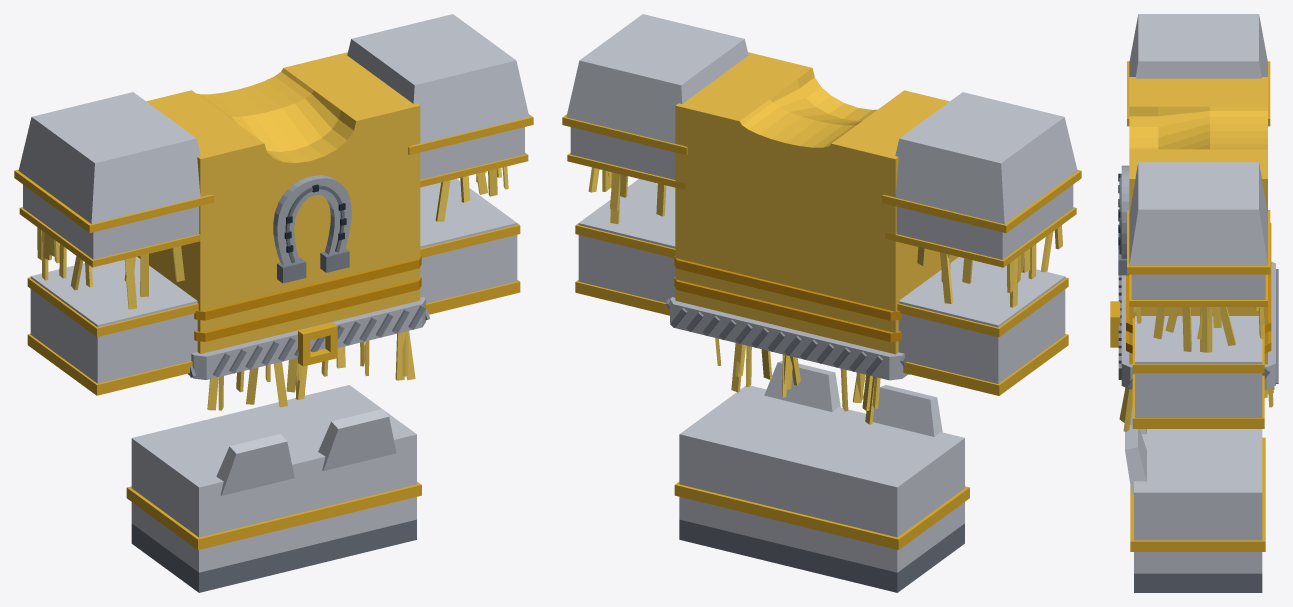
Rendered from w1_armor_harvest.fbx.
3 views of the same model, side by side, from view 1: azimuth 30°, elevation 25°; view 2: azimuth 150°, elevation 25°; view 3: azimuth 270°, elevation 25° (orthographic). The views are drawn at different scales.
Visible parts, largest first — view 1: Harvest.Chest, Harvest.PlateR, Harvest.PlateL, Harvest.GreaveR, Harvest.GreaveL, Harvest.TrimR, Harvest.Bands, Harvest.TrimL, Harvest.Belt, Harvest.SoleR, Harvest.StrawTorso, Harvest.Emblem (+8 smaller); view 2: Harvest.Chest, Harvest.PlateR, Harvest.PlateL, Harvest.GreaveR, Harvest.GreaveL, Harvest.TrimR, Harvest.Belt, Harvest.Bands, Harvest.TrimL, Harvest.SoleR, Harvest.StrawTorso, Harvest.GreaveTrimR (+5 smaller); view 3: Harvest.PlateL, Harvest.GreaveL, Harvest.Chest, Harvest.PlateR, Harvest.TrimL, Harvest.SoleL, Harvest.StrawL, Harvest.GreaveR, Harvest.GreaveTrimL, Harvest.Belt, Harvest.Bands, Harvest.Braid (+4 smaller).
Part boxes in pixels (x1=…): Harvest.Chest: x1=137, y1=52, x2=420, y2=353; Harvest.PlateR: x1=18, y1=92, x2=209, y2=383; Harvest.PlateL: x1=347, y1=14, x2=529, y2=303; Harvest.GreaveR: x1=131, y1=410, x2=315, y2=572; Harvest.GreaveL: x1=248, y1=385, x2=416, y2=547; Harvest.TrimR: x1=14, y1=169, x2=213, y2=395; Harvest.Bands: x1=194, y1=256, x2=421, y2=341; Harvest.TrimL: x1=408, y1=114, x2=533, y2=314; Harvest.Belt: x1=187, y1=297, x2=425, y2=379; Harvest.SoleR: x1=131, y1=523, x2=315, y2=592; Harvest.StrawTorso: x1=207, y1=331, x2=415, y2=410; Harvest.Emblem: x1=273, y1=175, x2=351, y2=265; Harvest.Chest: x1=675, y1=52, x2=958, y2=354; Harvest.PlateR: x1=886, y1=92, x2=1077, y2=383; Harvest.PlateL: x1=566, y1=14, x2=748, y2=302; Harvest.GreaveR: x1=781, y1=385, x2=964, y2=572; Harvest.GreaveL: x1=679, y1=361, x2=862, y2=547; Harvest.TrimR: x1=882, y1=170, x2=1081, y2=395; Harvest.Belt: x1=670, y1=297, x2=907, y2=380; Harvest.Bands: x1=674, y1=256, x2=901, y2=341; Harvest.TrimL: x1=562, y1=114, x2=687, y2=315; Harvest.SoleR: x1=781, y1=523, x2=964, y2=592; Harvest.StrawTorso: x1=715, y1=338, x2=880, y2=424; Harvest.GreaveTrimR: x1=776, y1=486, x2=969, y2=550; Harvest.PlateL: x1=1129, y1=162, x2=1267, y2=417; Harvest.GreaveL: x1=1125, y1=425, x2=1262, y2=573; Harvest.Chest: x1=1129, y1=77, x2=1267, y2=364; Harvest.PlateR: x1=1129, y1=14, x2=1267, y2=78; Harvest.TrimL: x1=1127, y1=210, x2=1270, y2=428; Harvest.SoleL: x1=1134, y1=573, x2=1262, y2=592; Harvest.StrawL: x1=1133, y1=307, x2=1264, y2=352; Harvest.GreaveR: x1=1125, y1=387, x2=1262, y2=445; Harvest.GreaveTrimL: x1=1130, y1=485, x2=1265, y2=551; Harvest.Belt: x1=1121, y1=261, x2=1275, y2=389; Harvest.Bands: x1=1126, y1=223, x2=1271, y2=353; Harvest.Braid: x1=1118, y1=269, x2=1278, y2=389.
Size of the model in its own units: 4.36 by 4.25 by 1.51.
